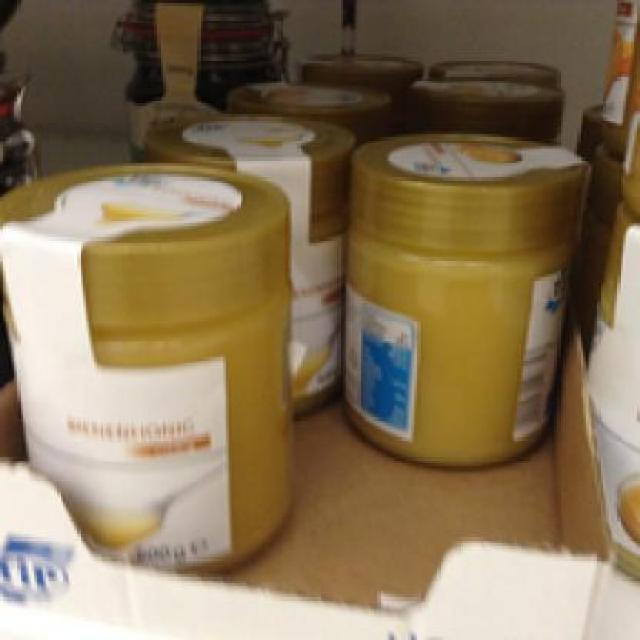Honey: (0, 159, 300, 572), (343, 128, 597, 472)
